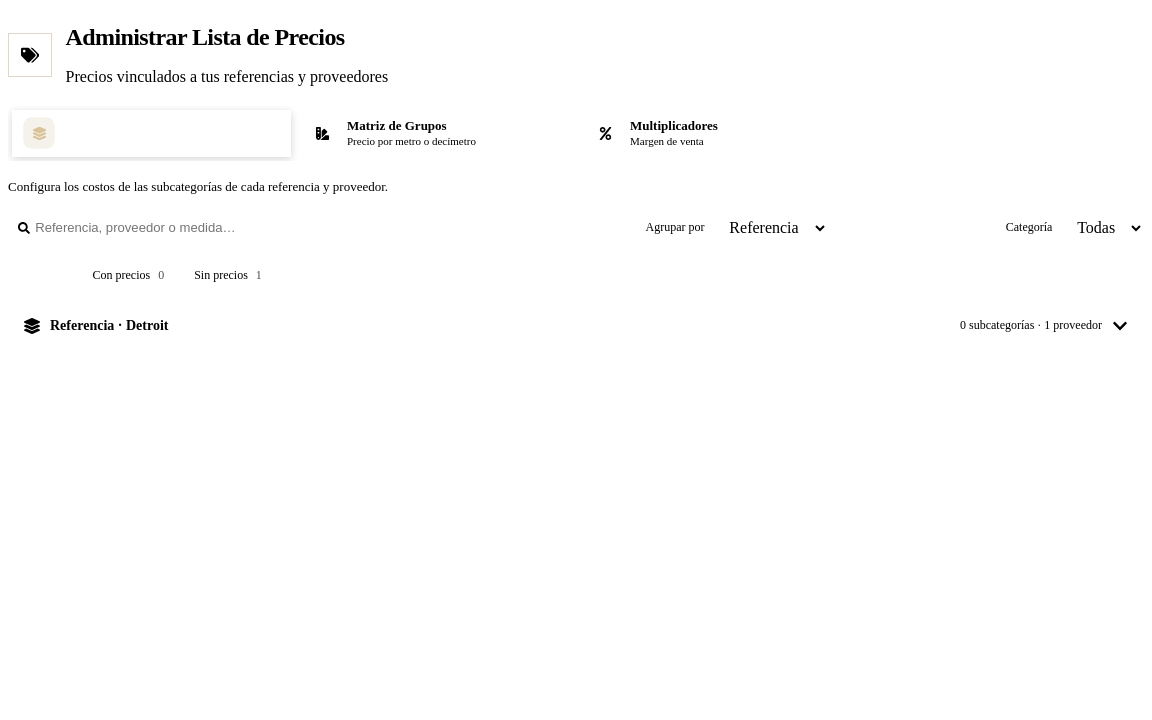
Test: Configurar los precios de una referencia existente › selecciona la referencia sin crear otro nombre o proveedor y abre su captura
Expected: the button with aria-label "Expandir referencia Detroit" is shown, [8,304,1144,348]
Select "Proveedor" in the dropdown labelled "Agrupar por" at x=770, y=228, box [713,210,828,244]
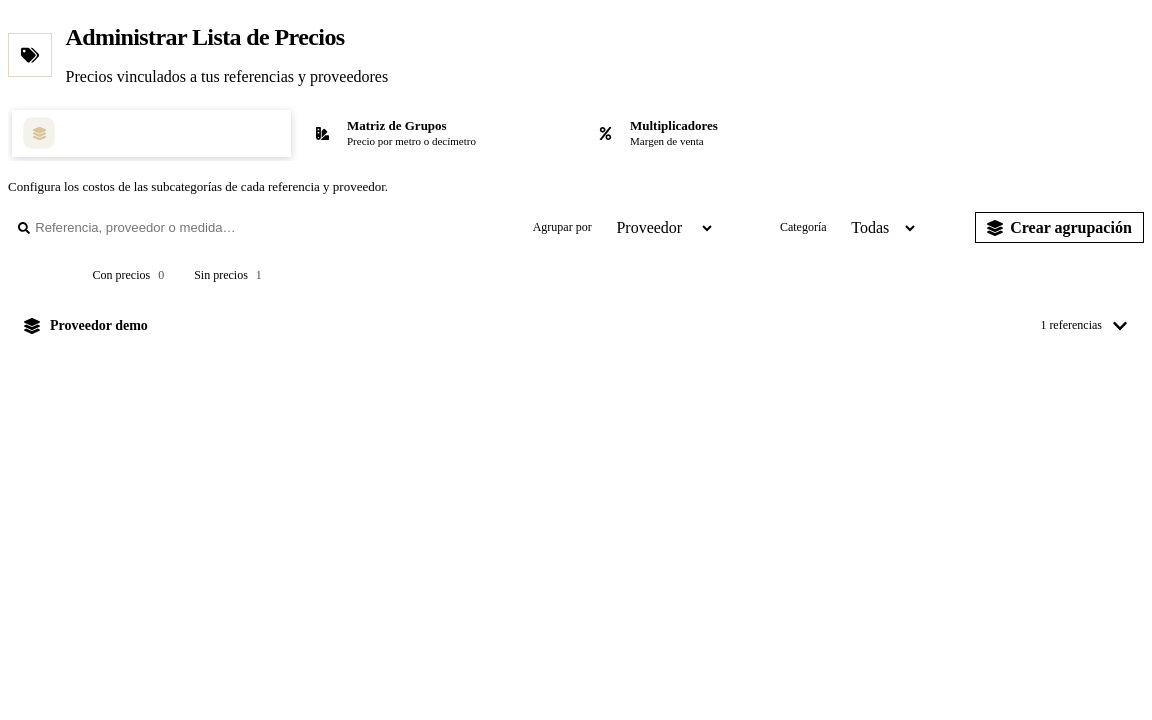
Type "Detroit" into the search field named "Buscar referencia, proveedor o medida" at x=247, y=228, box [35,210,458,244]
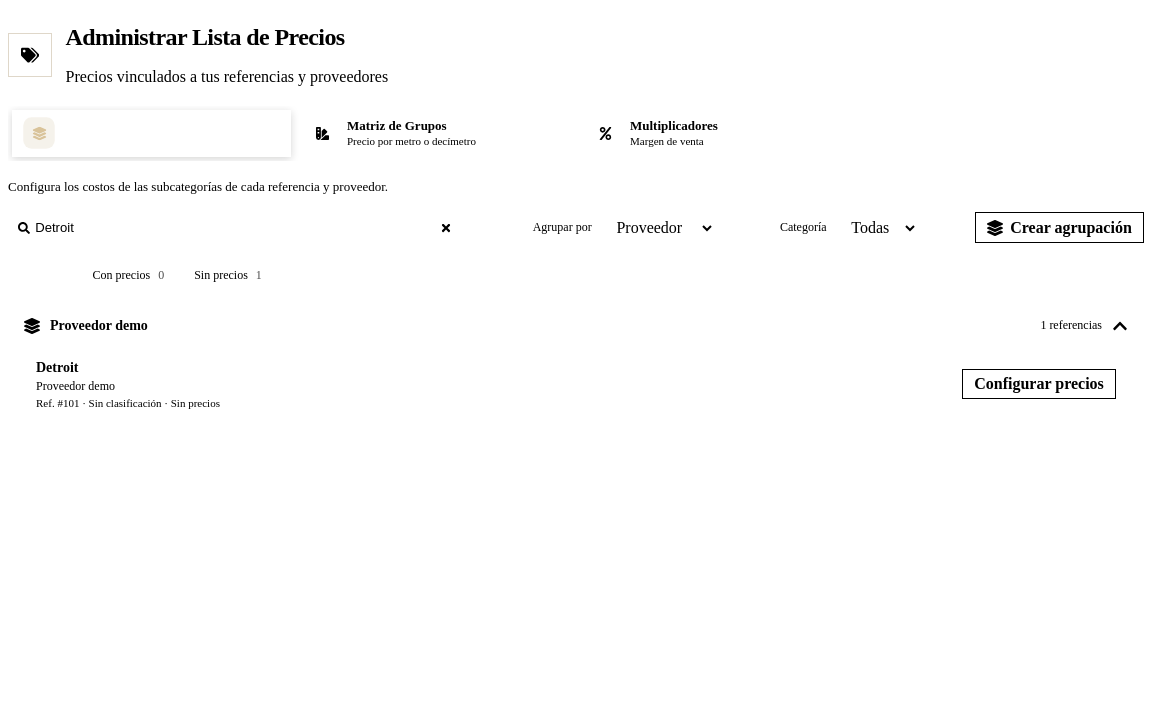
Expected: the button with aria-label "Configurar Detroit de Proveedor demo" is shown, [962,369,1116,399]
Click the button "Sin precios 1" at x=228, y=275, box [182,260,274,290]
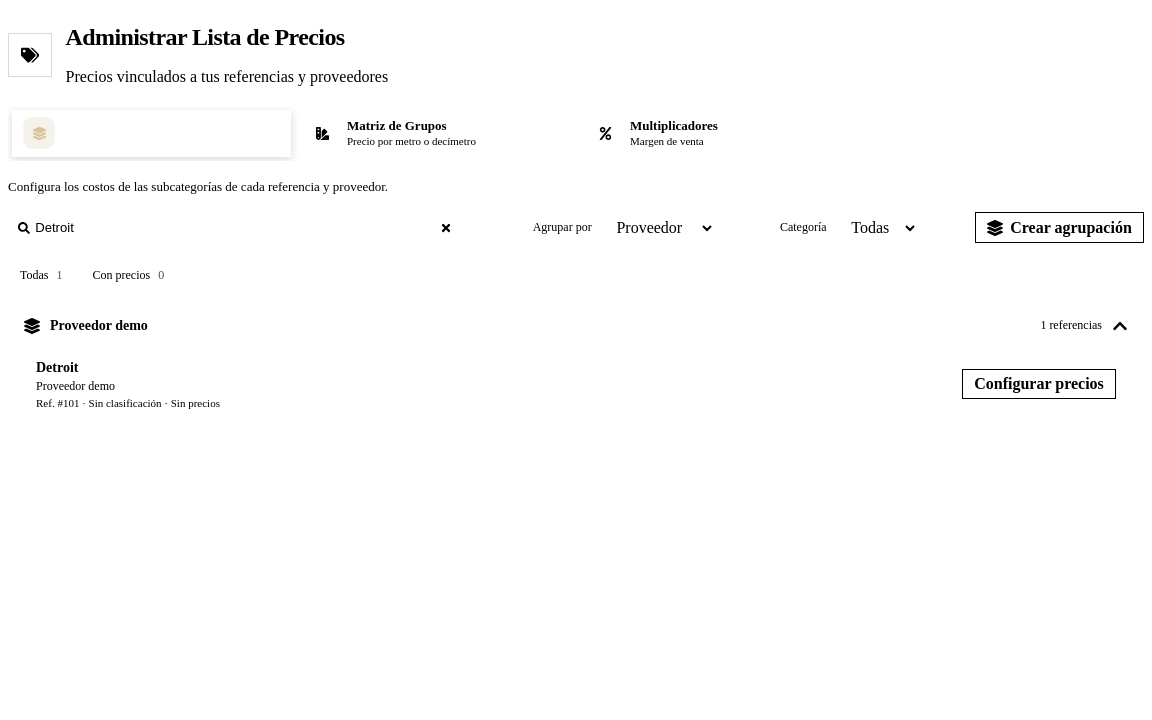
Click the button with aria-label "Configurar Detroit de Proveedor demo" at x=1039, y=384, box [962,369,1116,399]
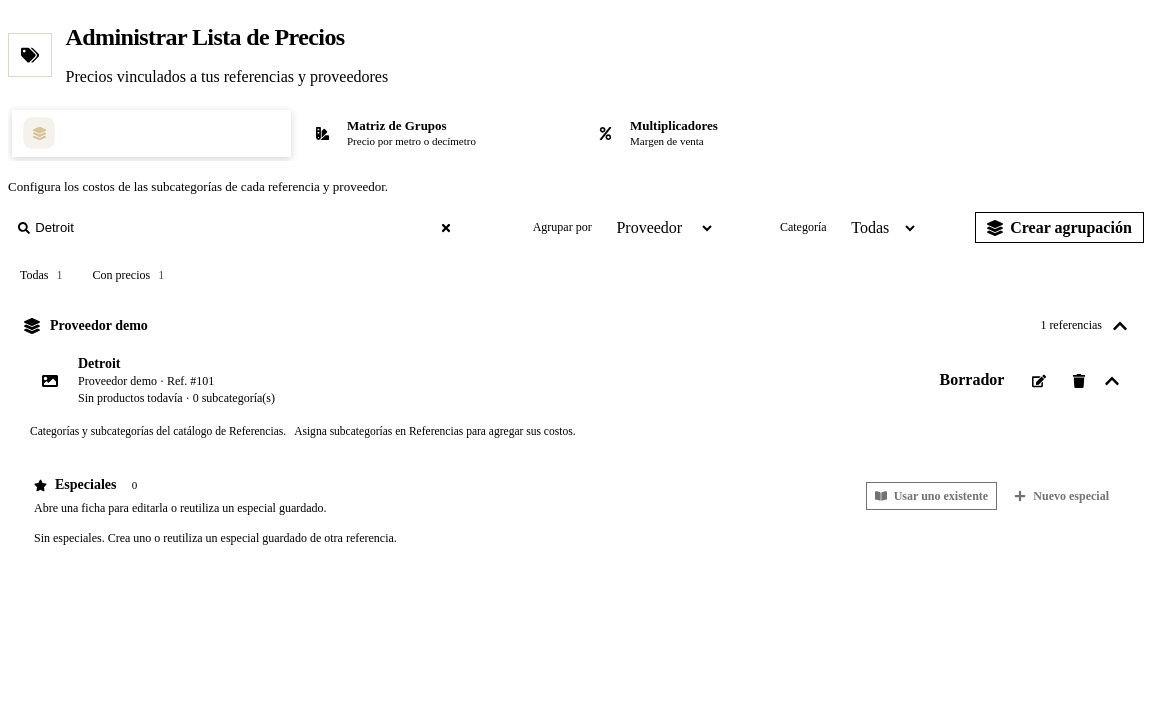
Expected: the button "Crear agrupación" is shown, [975,212,1144,243]
Expected: the text "Borrador" is shown, [940,371,1004,388]
